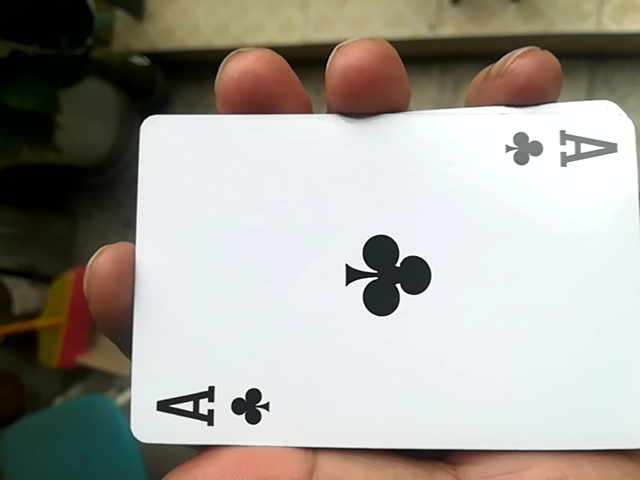mh a: (114, 113, 633, 471)
